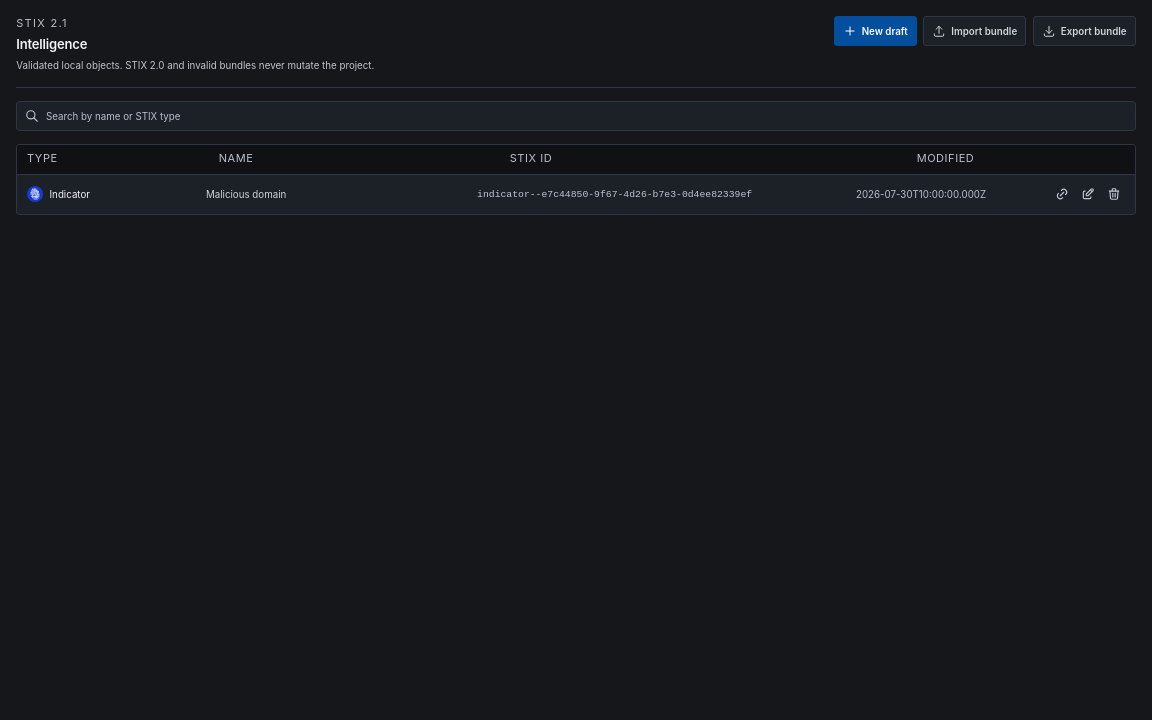
it: IntelligenceWorkspace › opens a committed object as a server-created revision draft
What coordinates should you click on to do the following:
click the button named "Edit Indicator"
I would click on:
 (1088, 194)
Its box is [1076,183,1099,206].
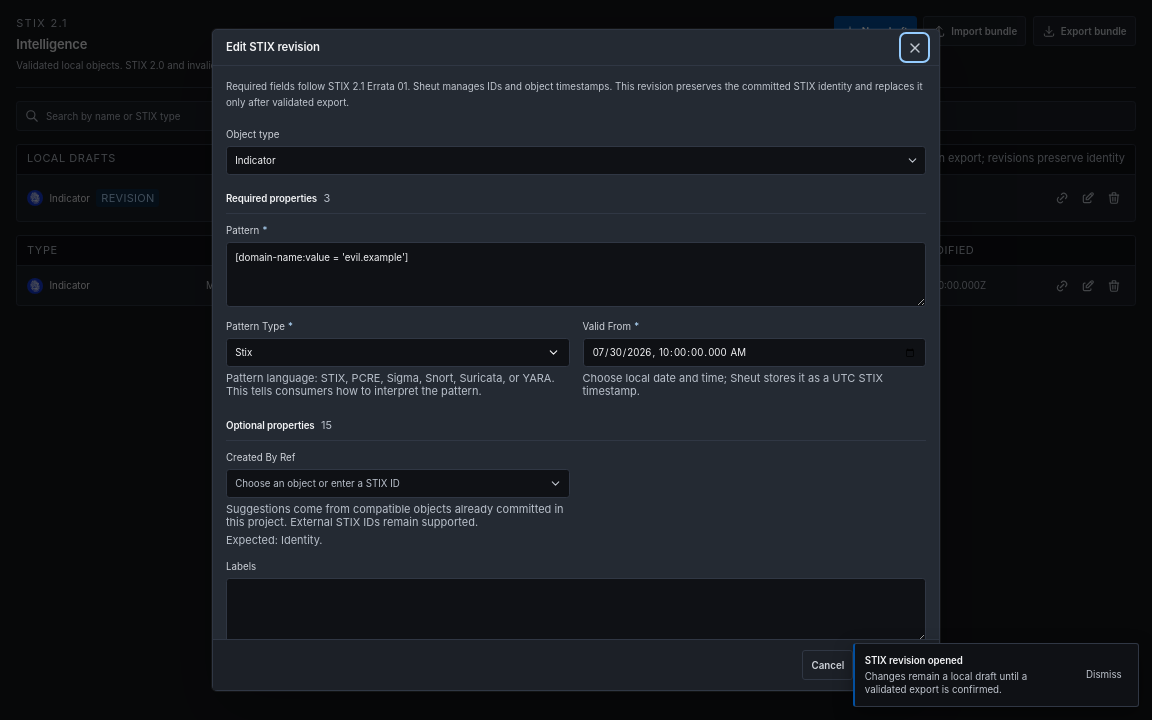
expect the dropdown labelled "Object type" is disabled: met, box [227,146,899,174]
expect the text box labelled "Pattern*" holds "[domain-name:value = 'evil.example']": met, box [226,242,926,307]
